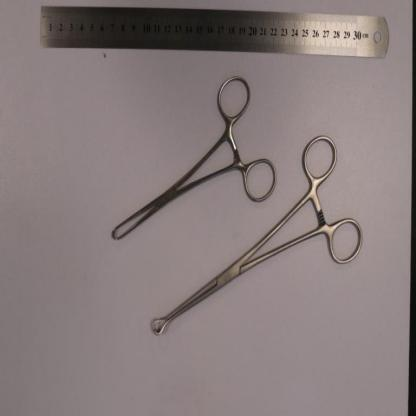8 Babcock Tissue Forceps: (153, 133, 363, 337)
Allis Tissue Forceps: (112, 74, 277, 241)
